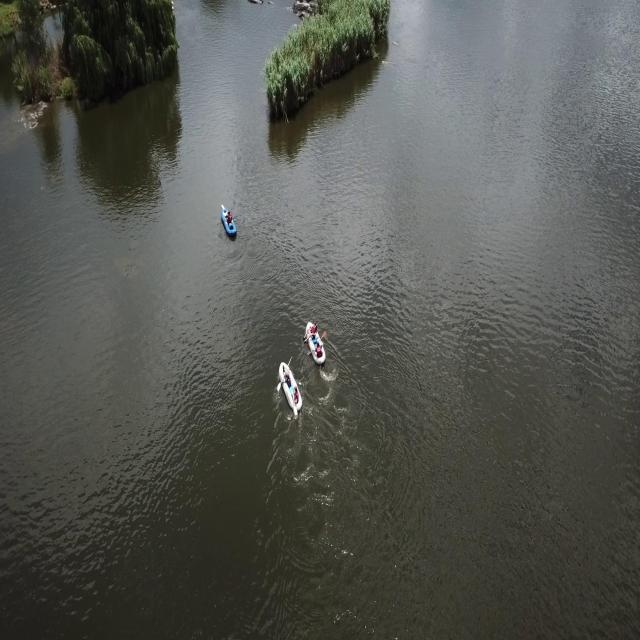kayak: (275, 354, 303, 417), (302, 319, 328, 368), (220, 203, 238, 241)
